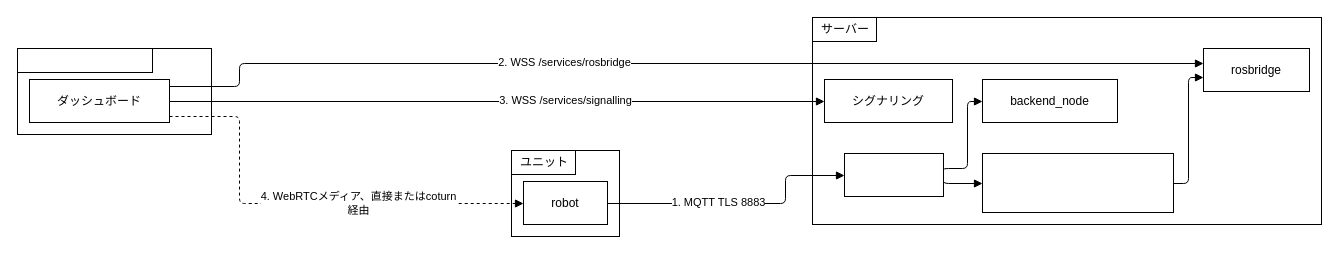
Image size: 1339x254. Some labels were removed from this diagram. The centre of each missing label's shape, as x and y in pixels:
HiveMQ: (894,174)
unit_relays (共有フリートリレー1台): (1078,182)
オペレーターブラウザ: (84,60)
